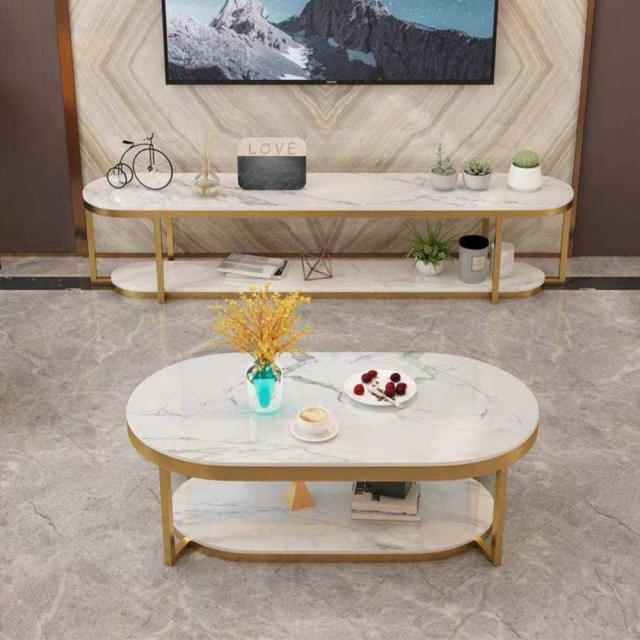table: (59, 138, 581, 292), (120, 330, 552, 516)
